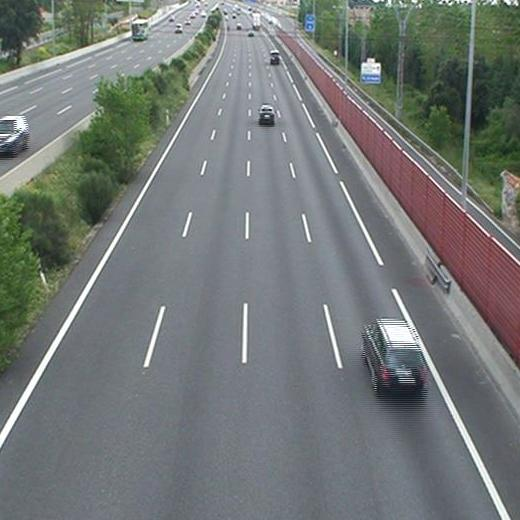car: (363, 320, 425, 390), (259, 106, 275, 123)
van: (270, 49, 281, 66)
